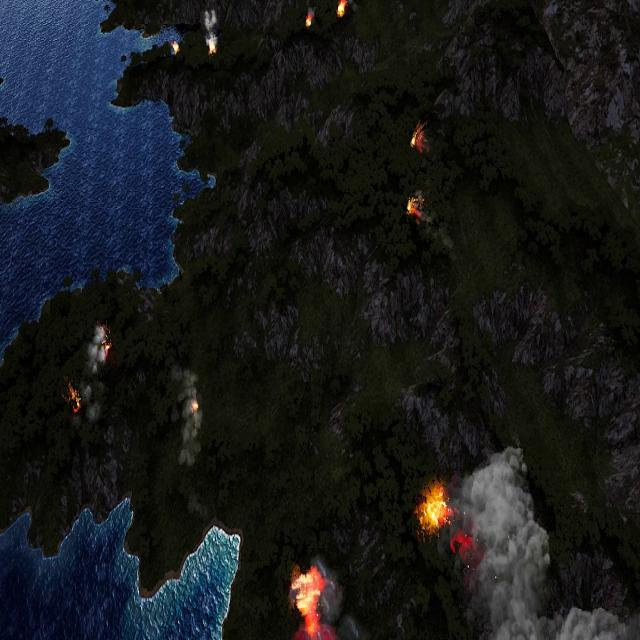fire: (291, 564, 327, 632), (418, 486, 449, 535), (410, 122, 427, 153), (66, 382, 82, 413), (407, 196, 423, 222), (338, 0, 347, 21), (306, 12, 314, 29), (208, 42, 216, 56), (173, 43, 181, 55)
smoke: (449, 444, 640, 640), (175, 362, 206, 469), (87, 322, 111, 422), (205, 9, 217, 49)
